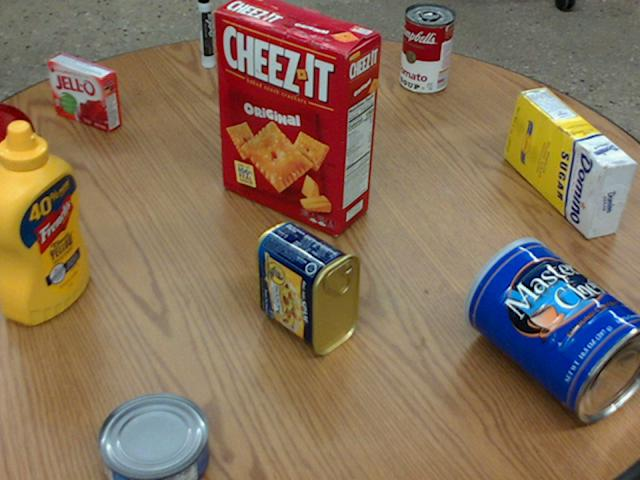cracker_box: (214, 0, 381, 232)
gelatin_box: (52, 53, 124, 131)
large_marker: (199, 0, 215, 66)
master_chef_can: (463, 237, 639, 421)
mug: (0, 102, 43, 206)
mustard_bottle: (0, 120, 91, 324)
potted_meat_can: (254, 221, 360, 355)
sugar_box: (505, 88, 639, 238)
tomato_soup_can: (401, 3, 456, 93)
tuna_fish_can: (97, 392, 208, 479)
